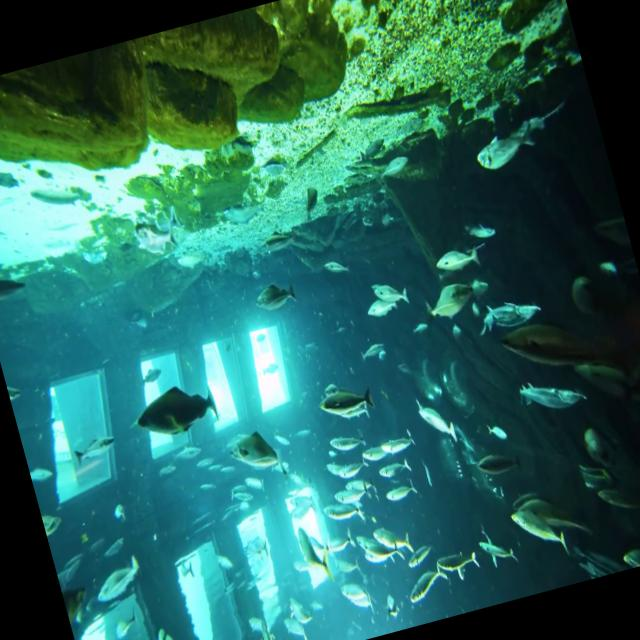fish: (128, 378, 224, 453), (514, 368, 589, 424), (510, 498, 573, 564), (317, 372, 378, 436), (230, 424, 288, 482), (430, 238, 484, 286), (250, 269, 299, 316), (405, 564, 452, 604)
